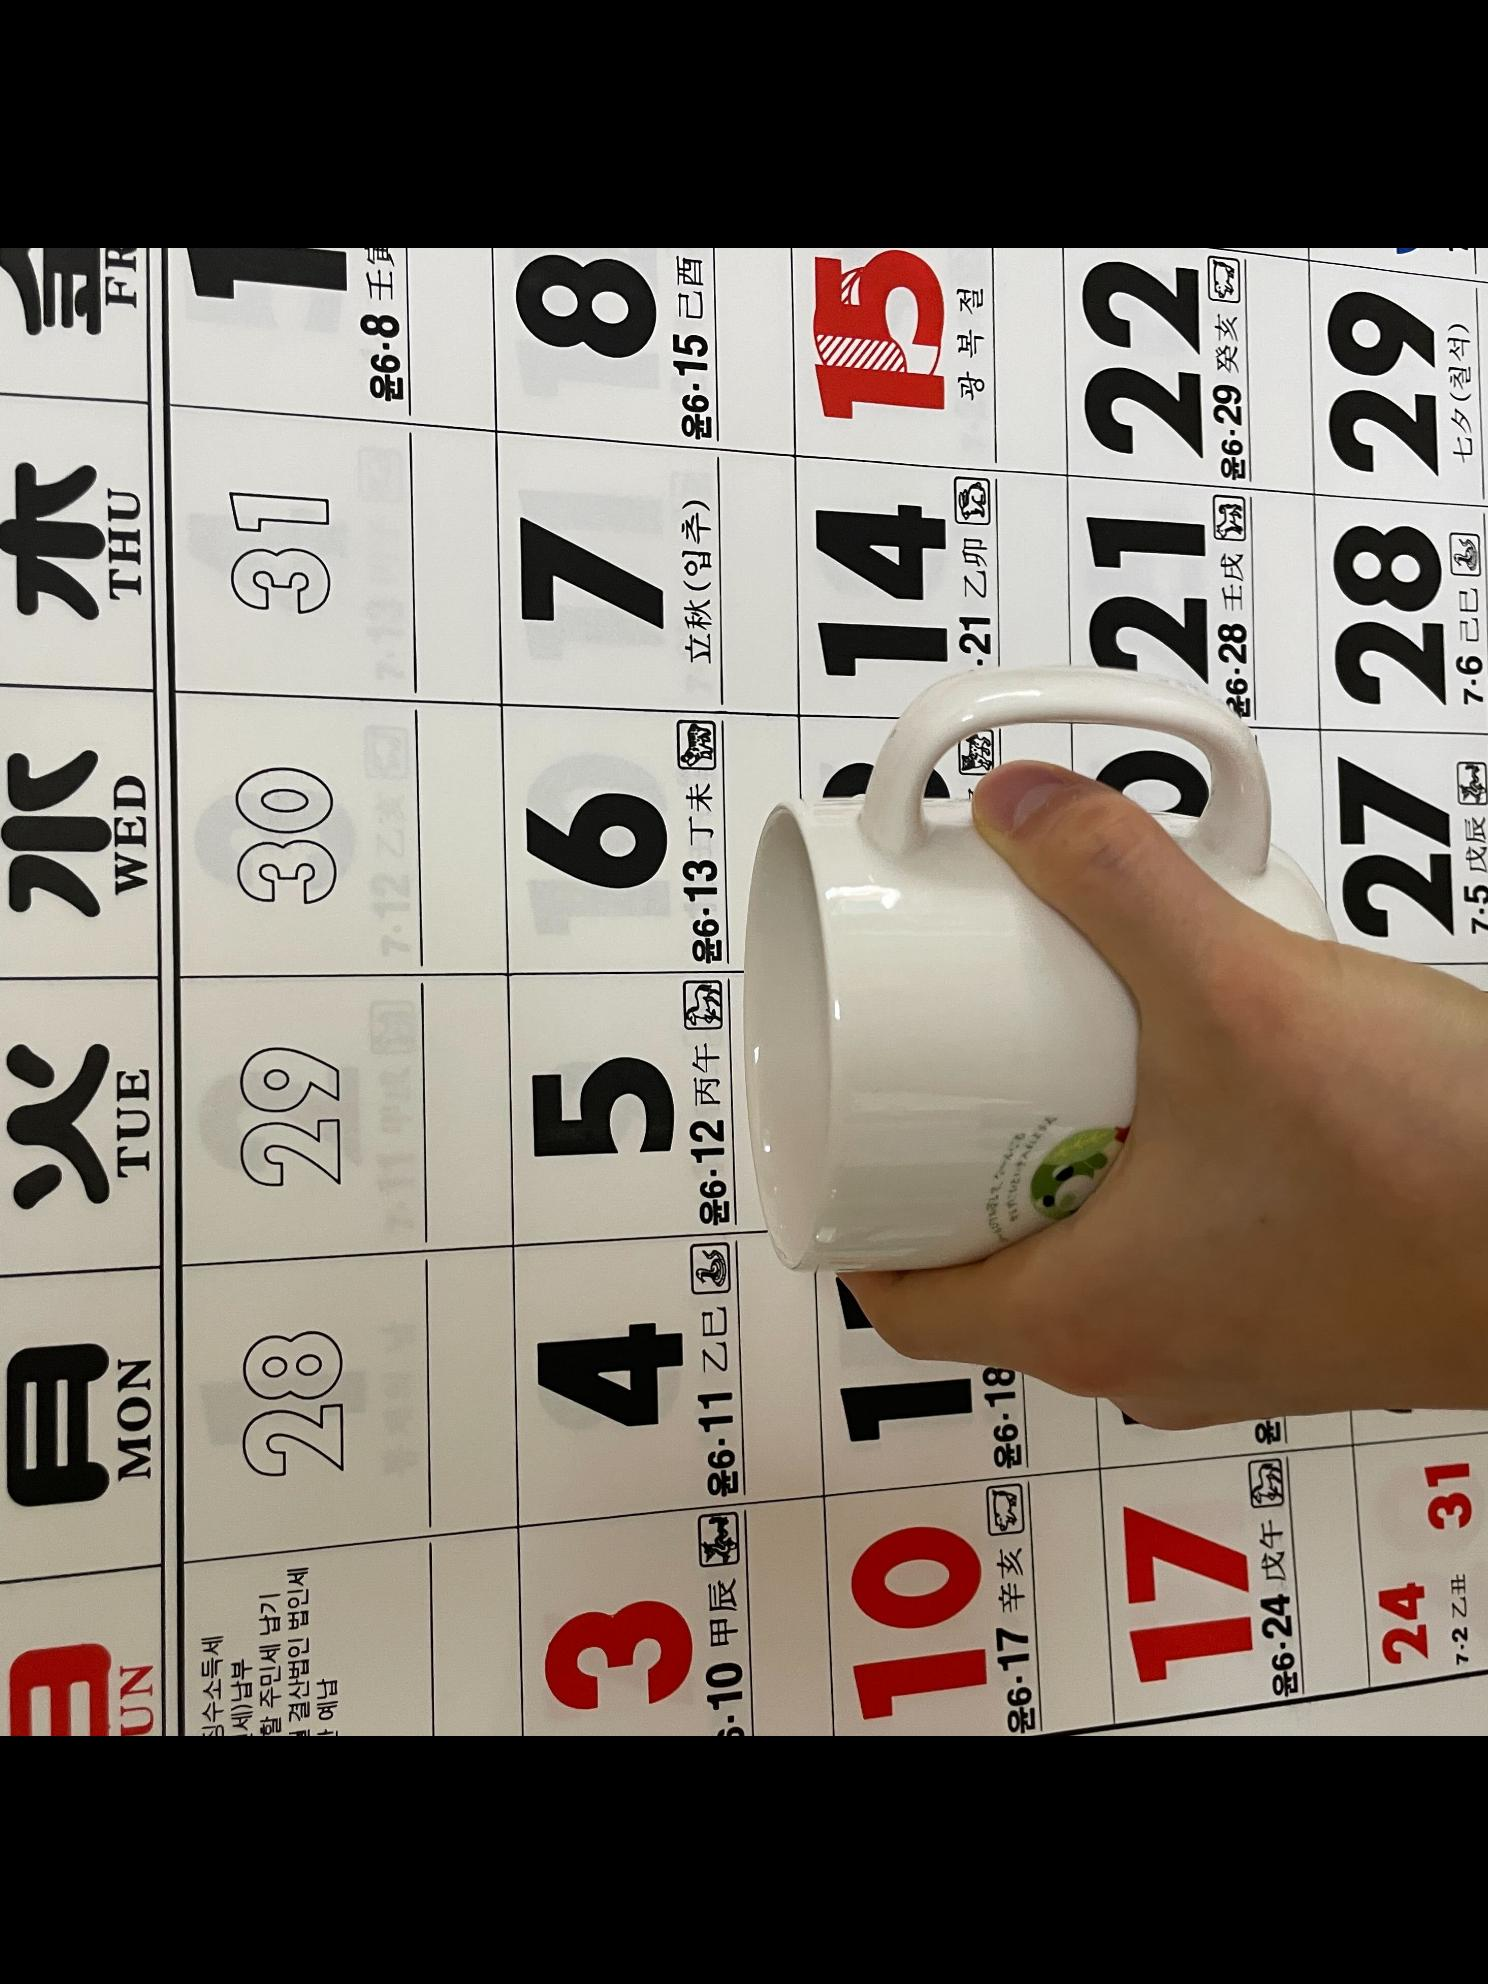cup: (735, 667, 1488, 1443)
